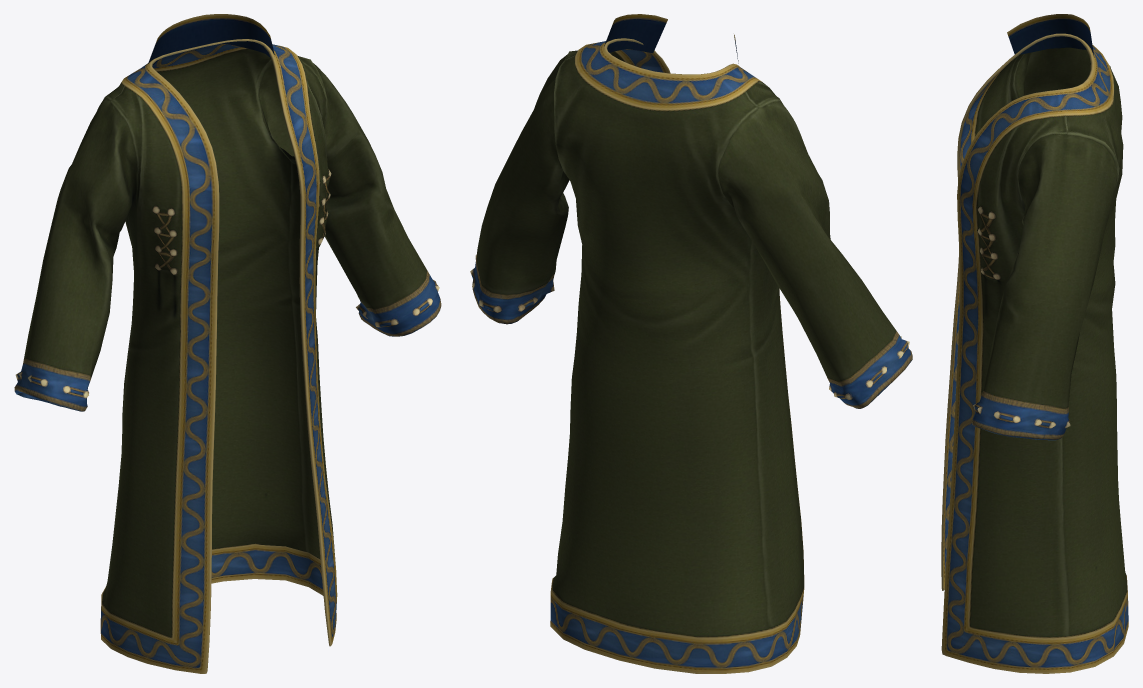
File: kimono.glb
3 renders of one model, left to right at view 1: azimuth 30°, elevation 25°; view 2: azimuth 150°, elevation 25°; view 3: azimuth 270°, elevation 25°, orthographic. The views are drawn at different scales.
Visible parts, largest first — view 1: all; view 2: all; view 3: all.
Part boxes in pixels (x1,y1,x2,y2): all: [14, 14, 441, 673]; all: [470, 14, 912, 673]; all: [941, 14, 1128, 673].
Size of the model in its own units: 0.5942 by 0.8167 by 0.235.
Materials: 1 (1 with a texture image).
